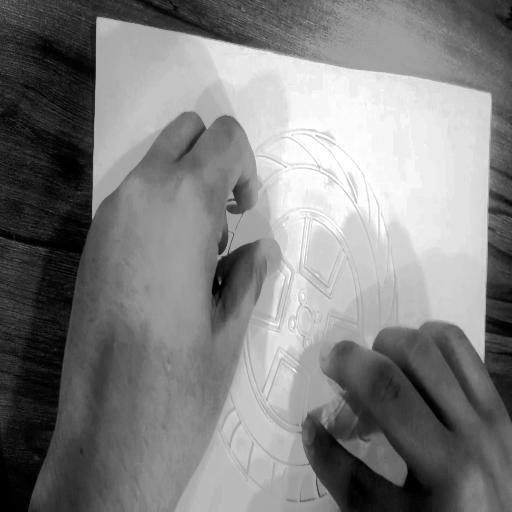tire: (191, 101, 414, 512)
top_left: (93, 11, 101, 26)
top_right: (486, 86, 496, 104)
